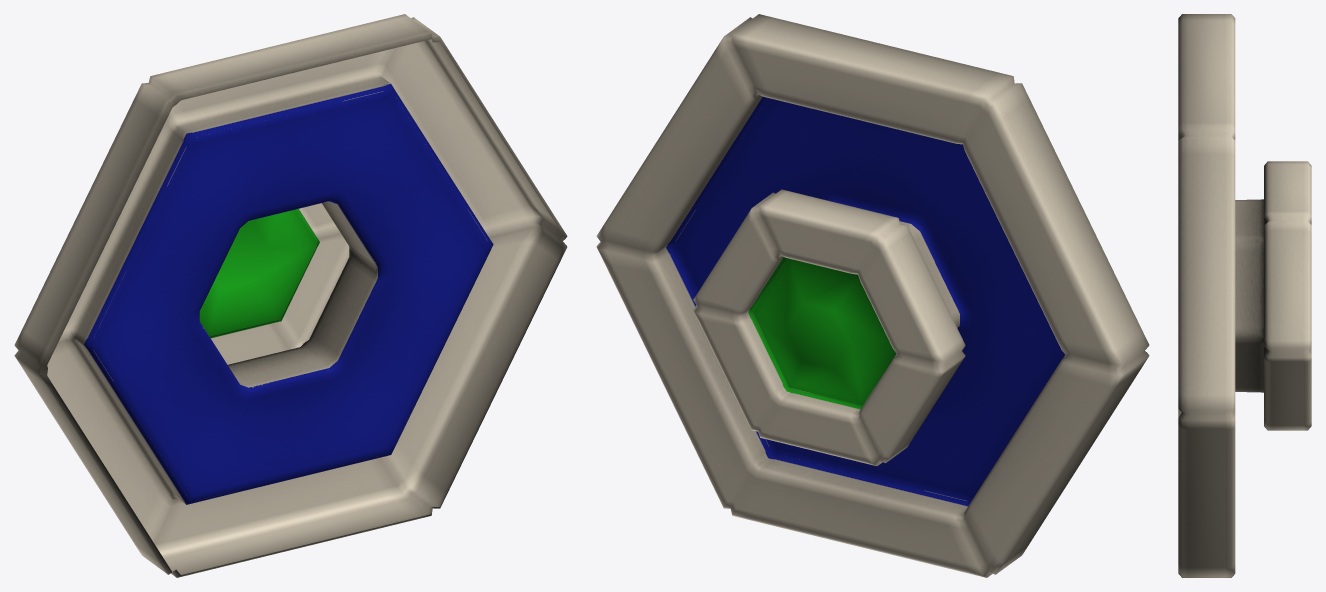
File: fountain.fbx
The picture shows the model from 3 angles, left to right: view 1: azimuth 30°, elevation 25°; view 2: azimuth 150°, elevation 25°; view 3: azimuth 270°, elevation 25°; orthographic projection. The views are drawn at different scales.
Visible parts, largest first — view 1: fountain; view 2: fountain; view 3: fountain.
Part boxes in pixels (left/top/right/bottom): fountain: left=14, top=14, right=567, bottom=577; fountain: left=596, top=14, right=1149, bottom=577; fountain: left=1178, top=14, right=1311, bottom=577.
Size of the model in its own units: 59360 by 51962 by 14000.
